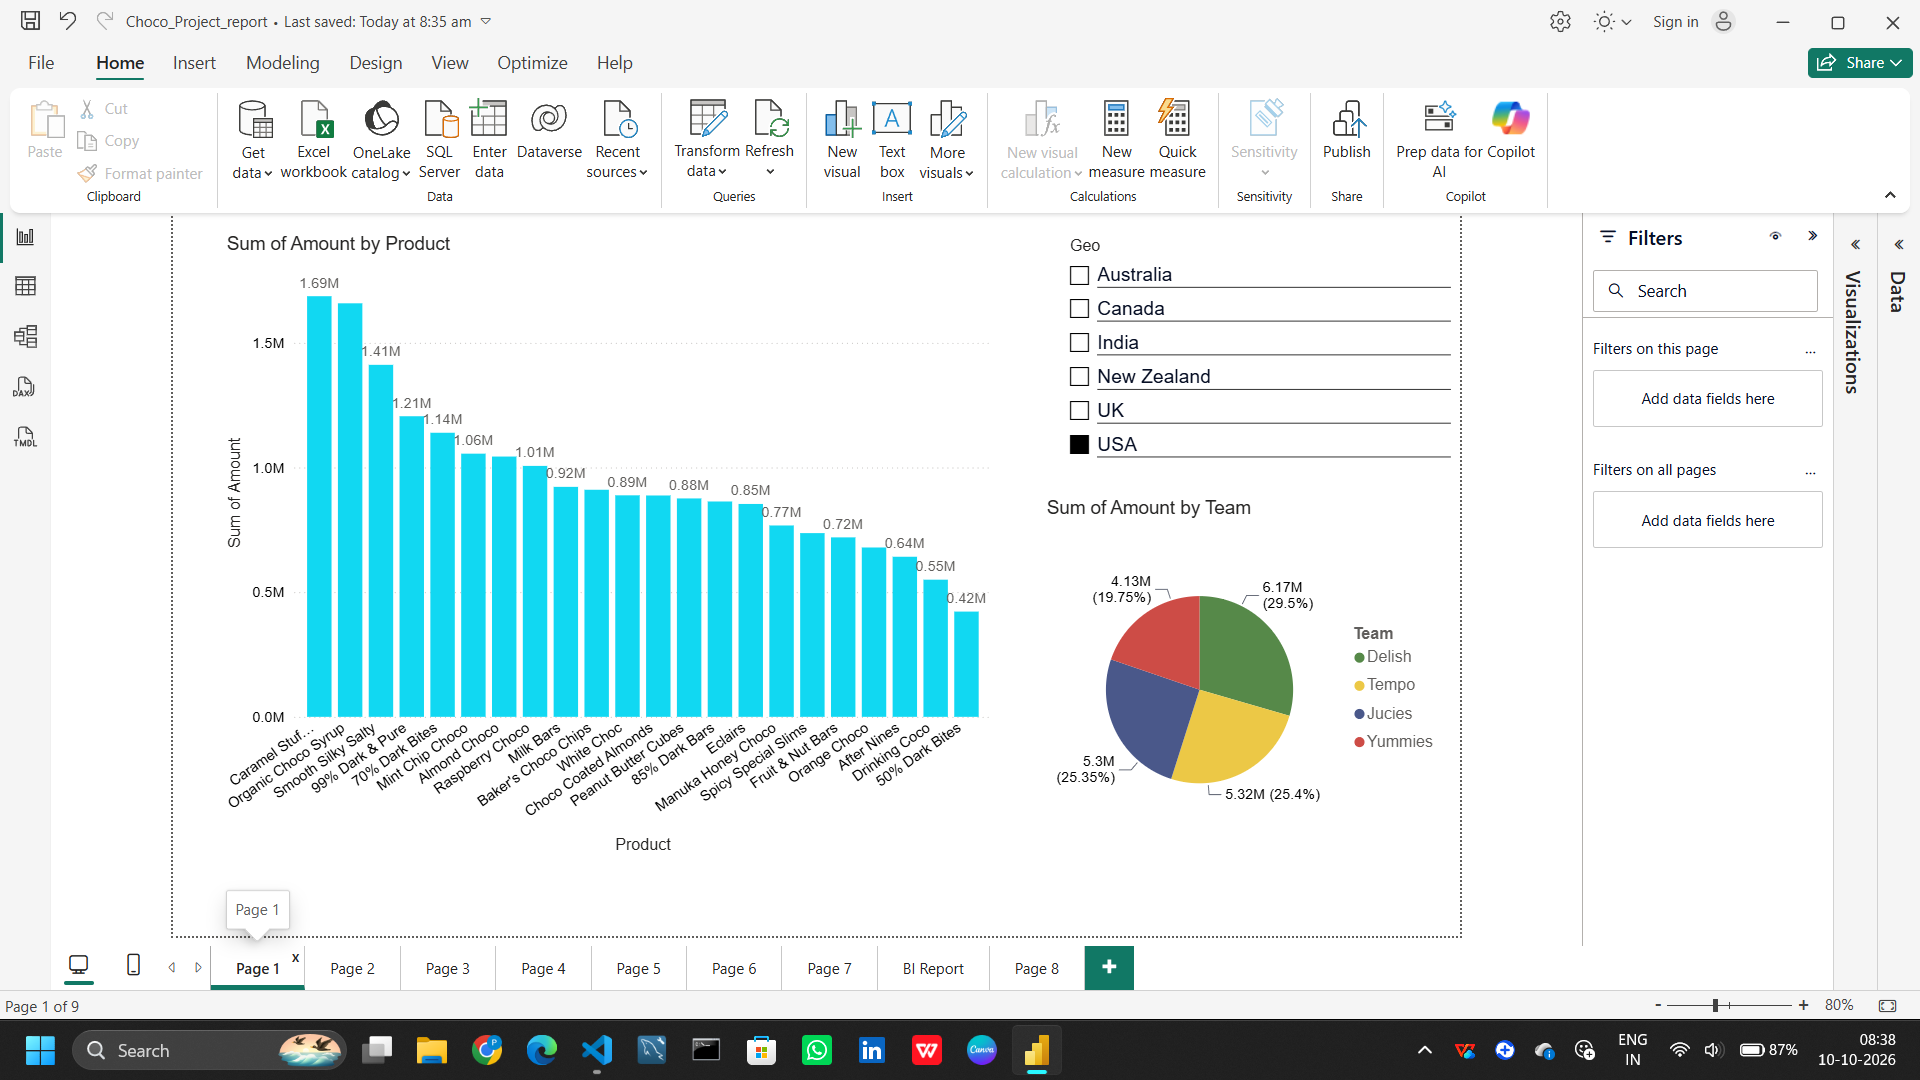

The dashboard page shown, as its layout file describes it:
{"tool":"powerbi","page":{"name":"Page 1","canvas":[1280,720],"ordinal":0},"visuals":[{"type":"columnChart","fields":{"Category":["products.Product"],"Y":["Sum(shipments.Amount)"]},"box":[45.3,16.5,778.7,630],"z":0},{"type":"slicer","fields":{"Values":["locations.Geo"]},"box":[875.5,15.1,404.8,241.5],"z":1000},{"type":"pieChart","fields":{"Category":["people.Team"],"Y":["Sum(shipments.Amount)"]},"box":[864.5,282.7,403.4,363.6],"z":2000}]}

Visuals, with their boxes on the page's 1280x720 design canvas (x1, y1, x2, y2). These are canvas units, not pixel positions in the 1920x1080 screenshot, which may show the page scaled, cropped or inside an application window:
columnChart - products.Product x Sum(shipments.Amount): (left=45, top=16, right=824, bottom=646)
slicer - locations.Geo: (left=876, top=15, right=1280, bottom=257)
pieChart - people.Team x Sum(shipments.Amount): (left=864, top=283, right=1268, bottom=646)
